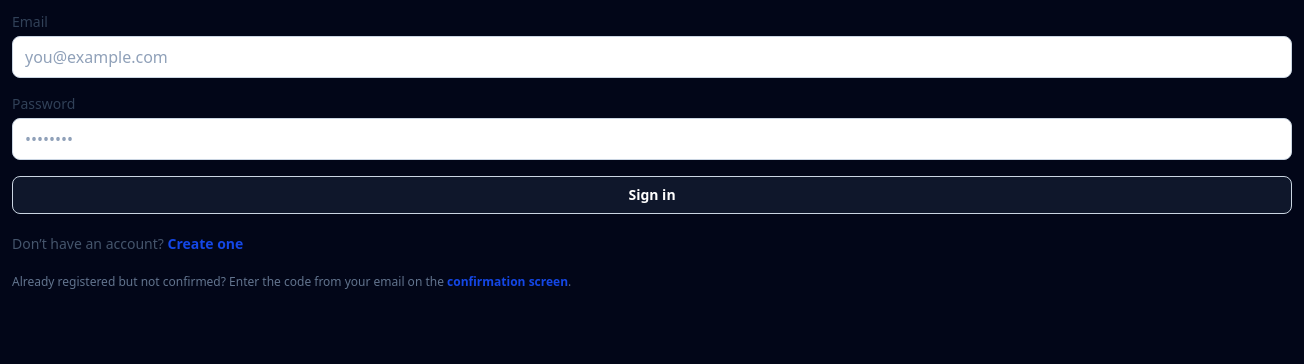
Scenario: LoginPage › shows toast on login failure
In the field with placeholder "you@example.com": (652,57) 12,36 -> 1292,78, type "me@example.com"
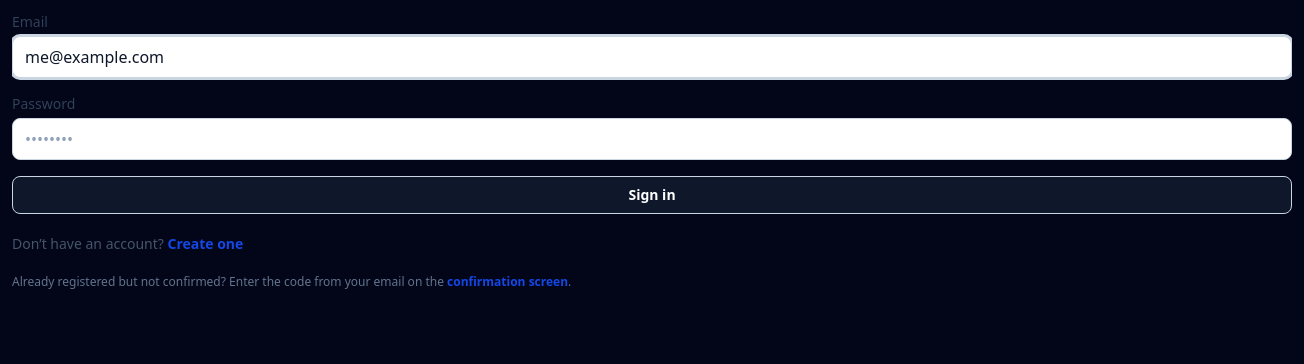
In the password field with placeholder "••••••••": (652,139) 12,118 -> 1292,160, type "bad"
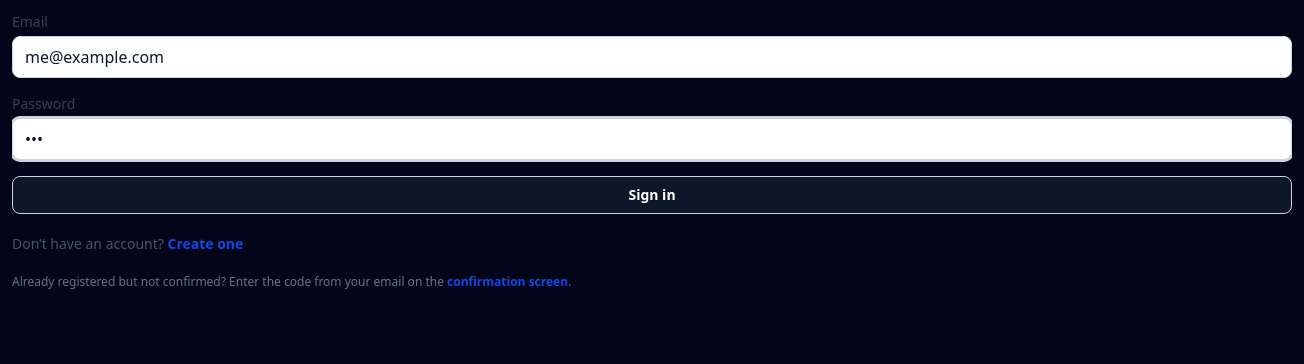
Click the button "Sign in": (652,195) 12,176 -> 1292,214
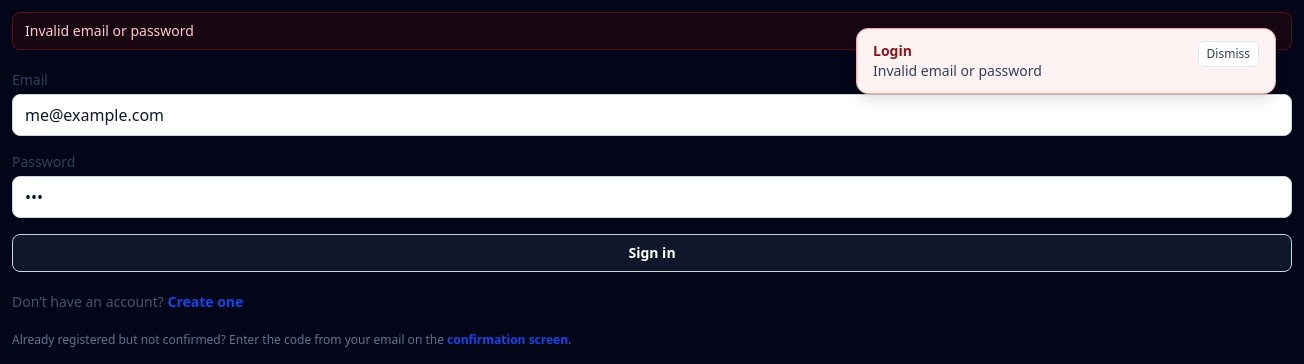
Expected: the 1st text "Invalid email or password" is shown, 12,12 -> 1292,50
